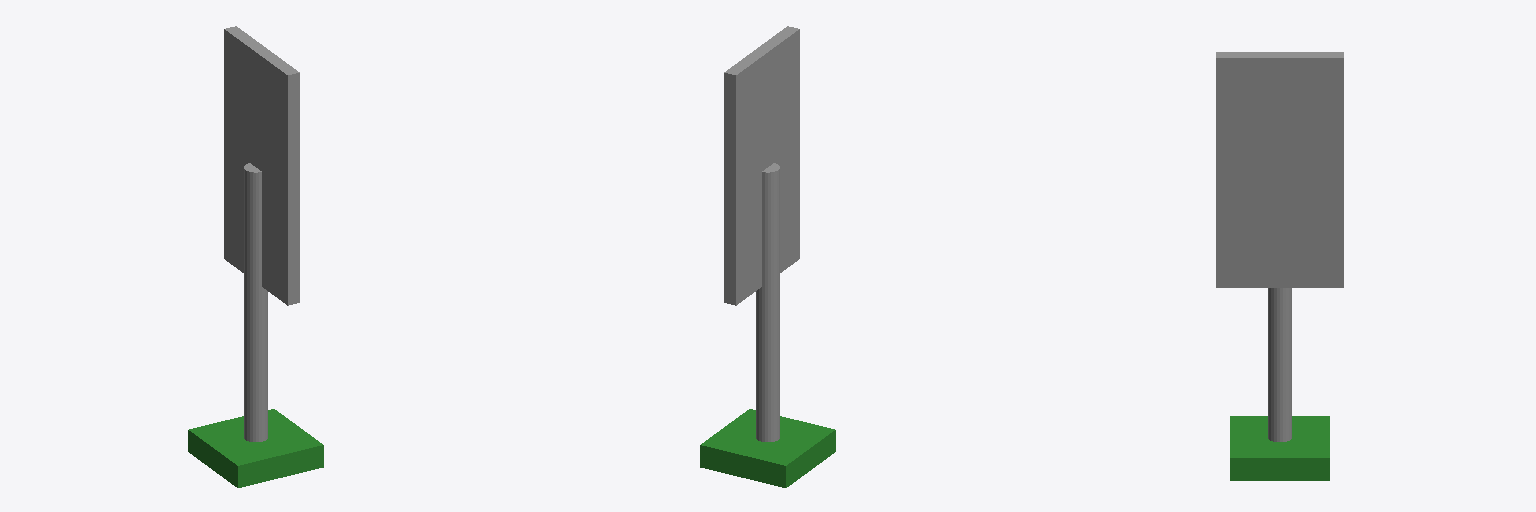
The model's file is sign_yield.obj.
3 views of the same model, side by side, from view 1: azimuth 30°, elevation 25°; view 2: azimuth 150°, elevation 25°; view 3: azimuth 270°, elevation 25° (orthographic).
Visible parts, largest first — view 1: SketchUp.002_ID23, SketchUp_ID2, SketchUp.001_ID10; view 2: SketchUp.002_ID23, SketchUp_ID2, SketchUp.001_ID10; view 3: SketchUp.003_ID31, SketchUp_ID2, SketchUp.001_ID10, SketchUp.002_ID23.
Boxes of the visible parts, x1,y1,x2,y2 form: SketchUp.002_ID23: [224, 26, 299, 305]; SketchUp_ID2: [188, 409, 323, 487]; SketchUp.001_ID10: [244, 163, 267, 441]; SketchUp.002_ID23: [724, 26, 799, 305]; SketchUp_ID2: [700, 409, 835, 487]; SketchUp.001_ID10: [756, 163, 779, 441]; SketchUp.003_ID31: [1216, 58, 1343, 287]; SketchUp_ID2: [1230, 416, 1329, 480]; SketchUp.001_ID10: [1268, 288, 1291, 441]; SketchUp.002_ID23: [1216, 52, 1343, 57].
Bounding box in the file's own units: 0.0508 × 0.2301 × 0.065.